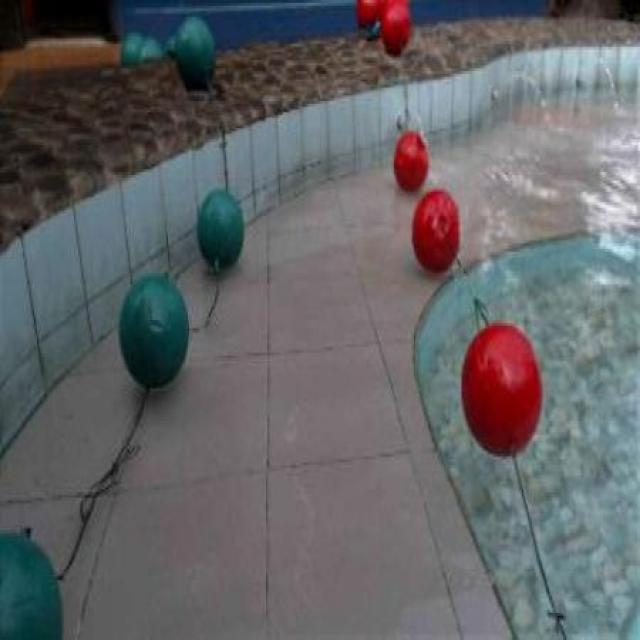buoy: (460, 320, 543, 457), (116, 272, 188, 389), (0, 529, 64, 636), (411, 188, 459, 271), (195, 190, 244, 269), (175, 14, 216, 84), (391, 131, 427, 192), (380, 0, 410, 54)
